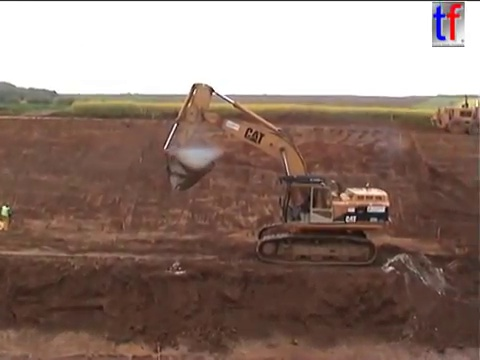excavator: (159, 81, 395, 269)
wheel loader: (429, 93, 480, 137)
worker: (1, 199, 13, 234)
